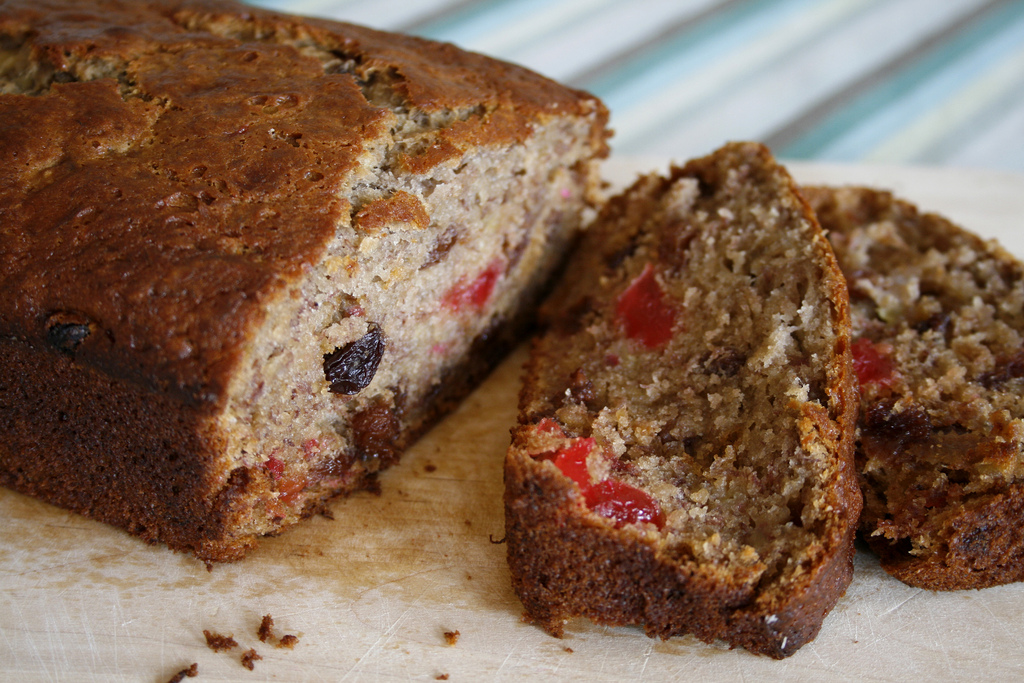slice of bread: (511, 140, 861, 657), (784, 174, 1024, 605)
